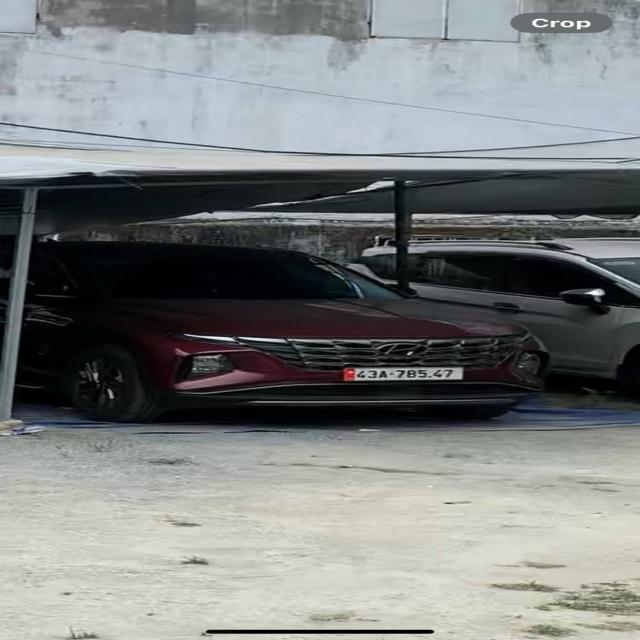car: (11, 232, 549, 430), (350, 236, 640, 393)
plate: (327, 355, 478, 392)
